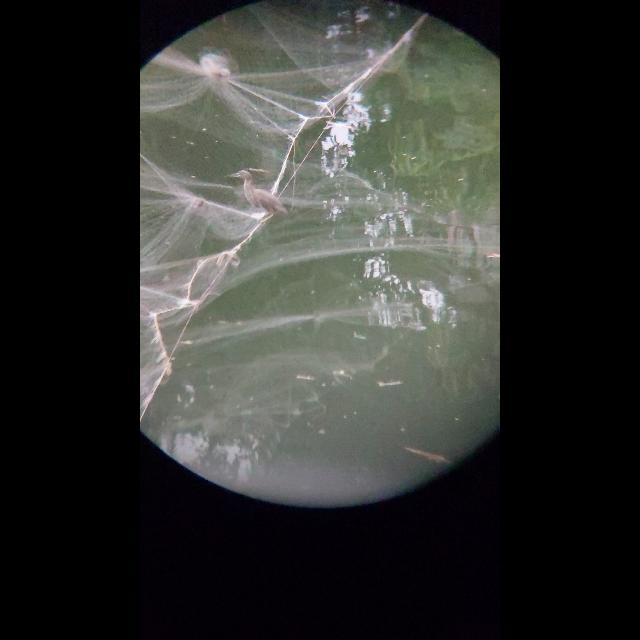heron: (226, 168, 286, 224)
